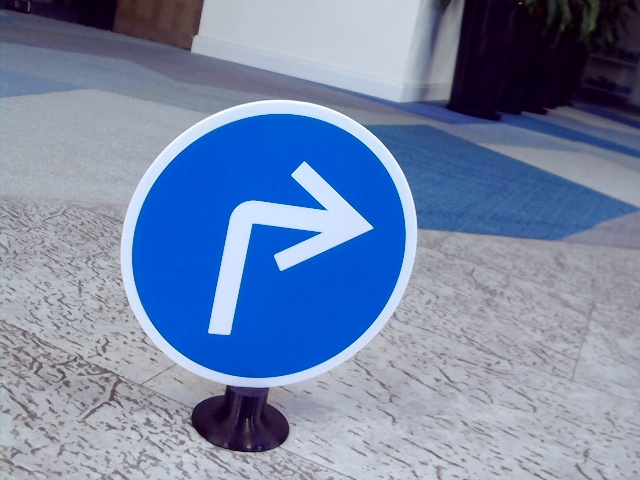turn_right: (200, 158, 373, 334)
